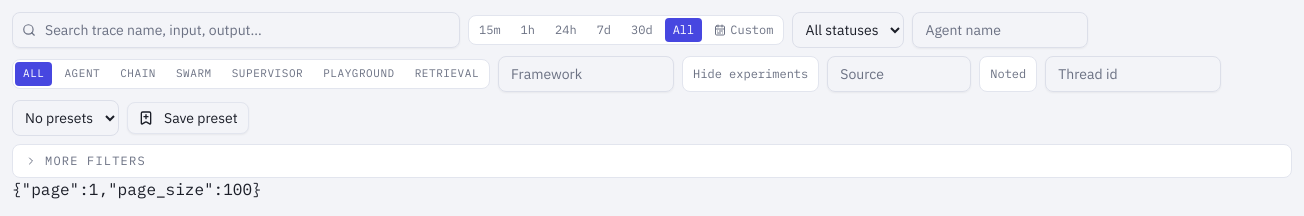
Test case: TraceFiltersBar (Sprint 3) › the Noted chip keeps only traces with a note (1.89.0)
The image size is (1304, 216).
Click the button "Noted" at (1008, 74), box [979,56,1037,92]
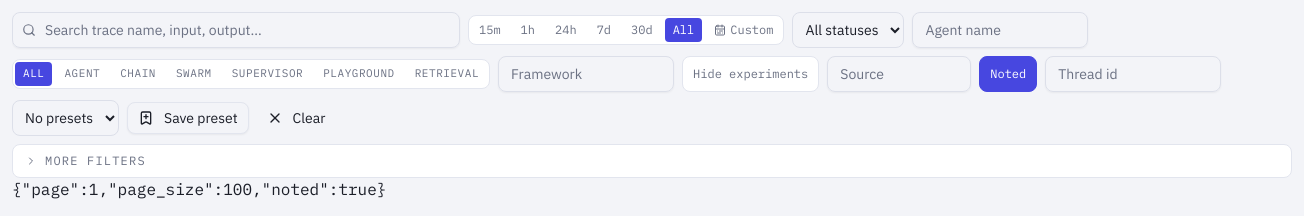
Result: the text with test id "filters-state" shows "\"noted\":true" at [12,179,386,199]
